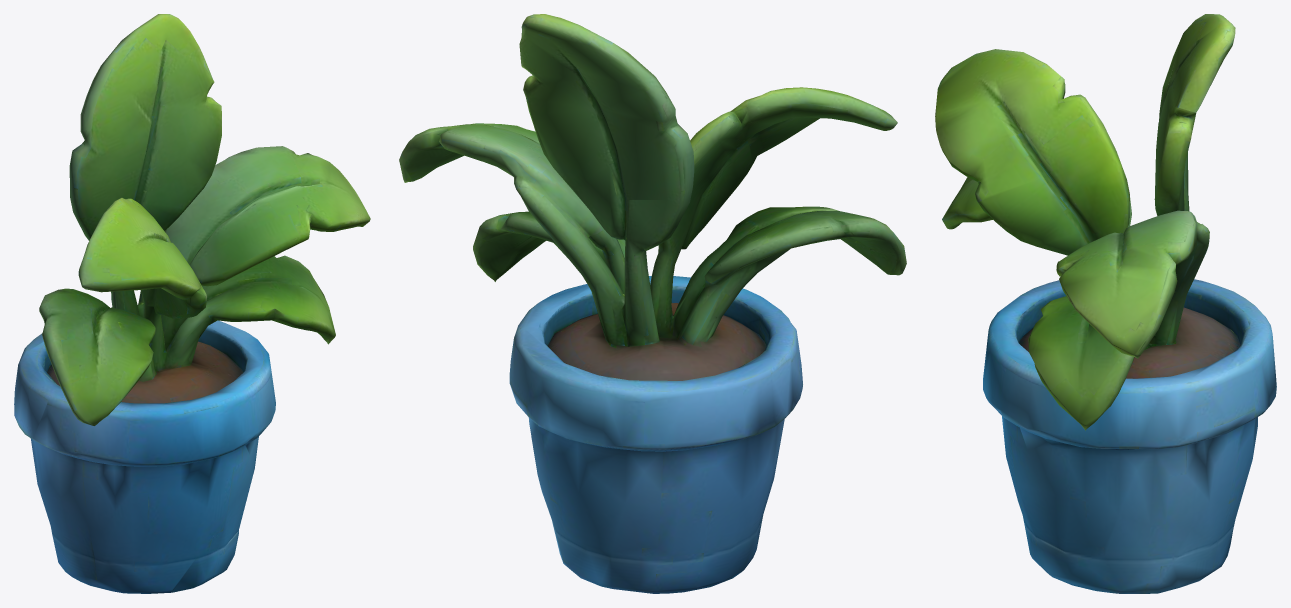
Rendered from potted_plant.glb.
3 renders of one model, left to right at view 1: azimuth 30°, elevation 25°; view 2: azimuth 150°, elevation 25°; view 3: azimuth 270°, elevation 25°, orthographic. The views are drawn at different scales.
Visible parts, largest first — view 1: potted_plant; view 2: potted_plant; view 3: potted_plant.
Boxes of the visible parts, x1,y1,x2,y2 form: potted_plant: [14, 14, 370, 593]; potted_plant: [399, 14, 906, 593]; potted_plant: [935, 14, 1276, 593].
Size of the model in its own units: 0.7873 by 0.9974 by 0.5469.
1 material, 1 textured.
